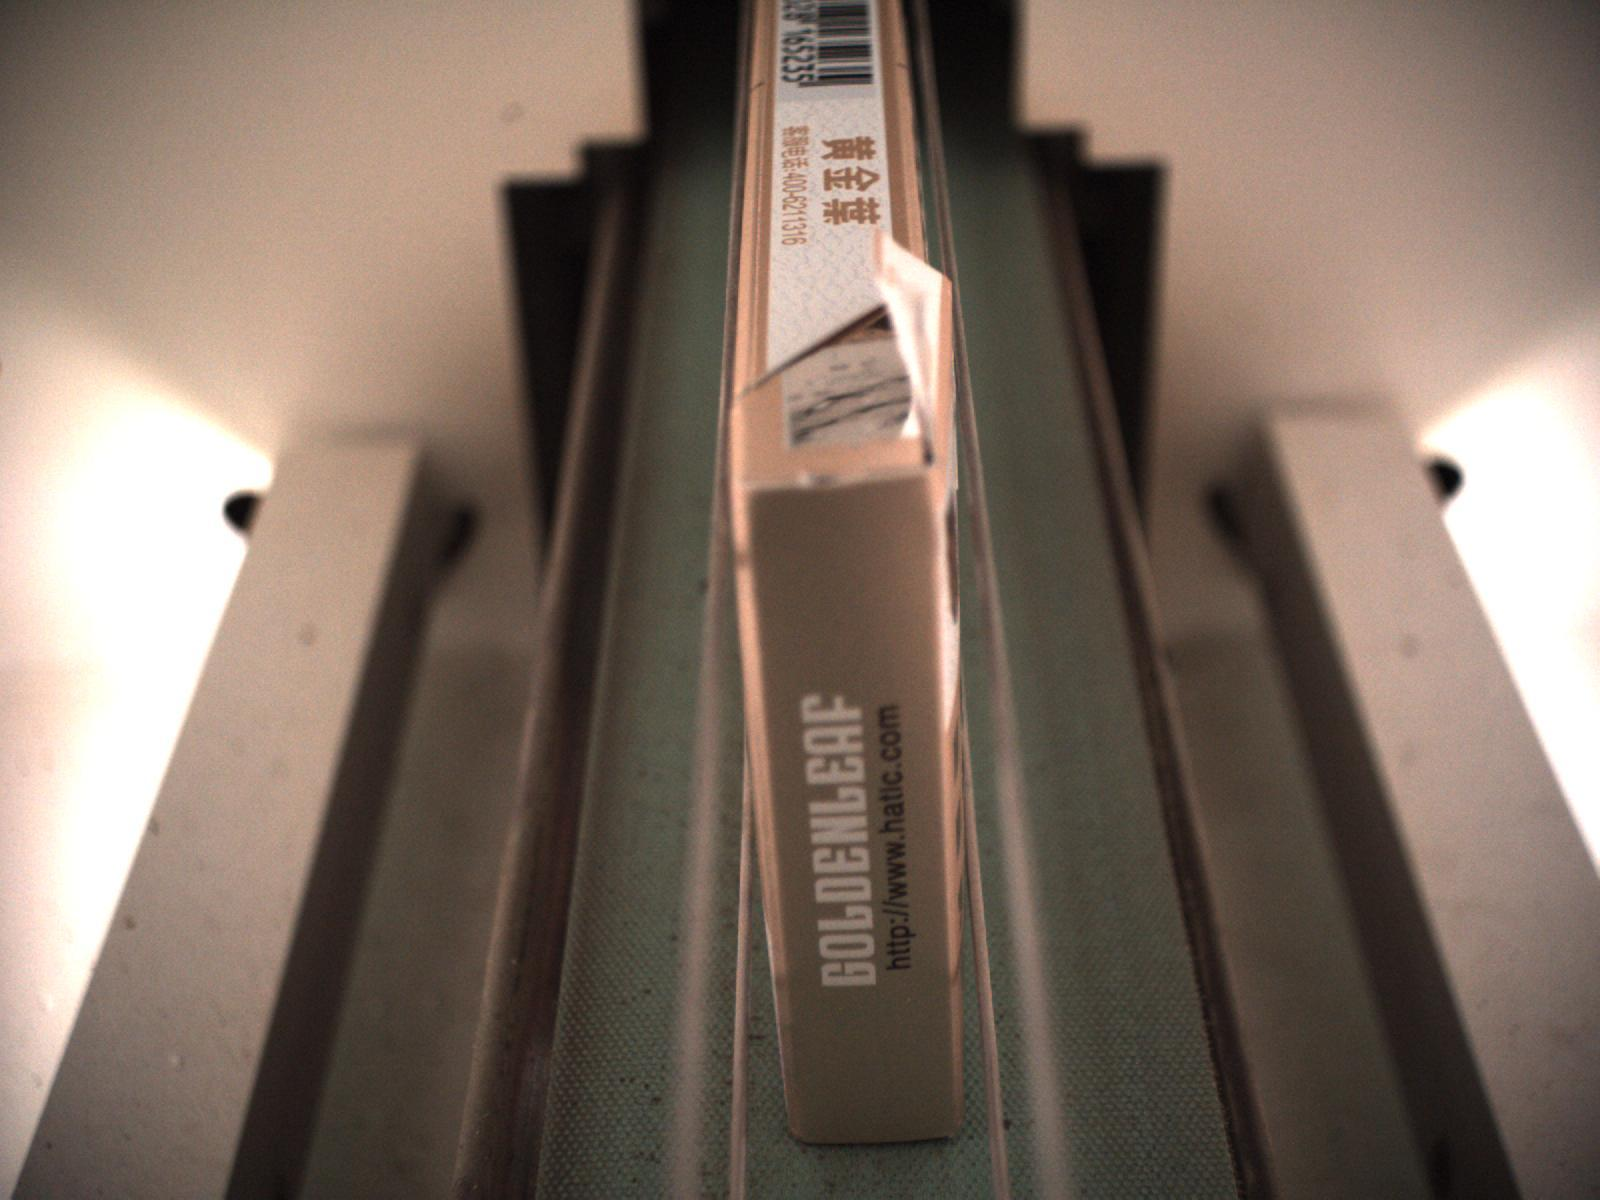headDamage_upper_2: (731, 244, 958, 502)
